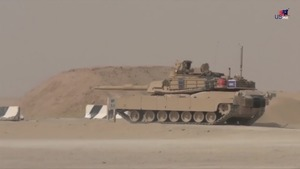abrams: (93, 63, 274, 127)
